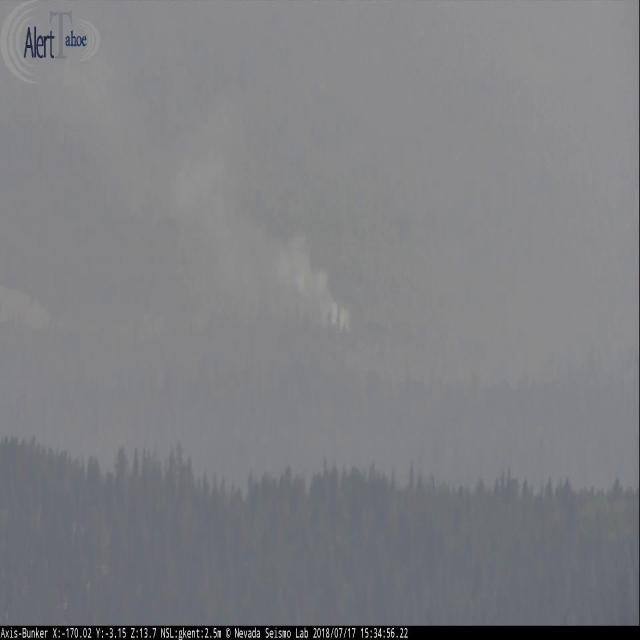smoke: (171, 129, 349, 347)
